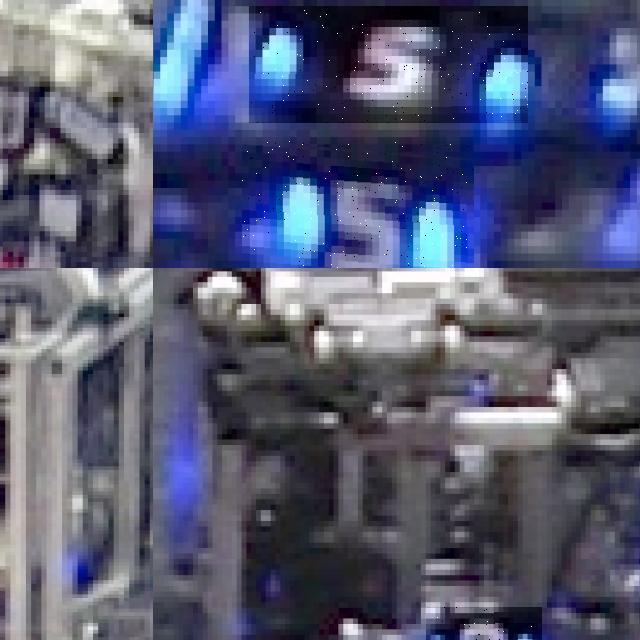B2: (425, 607, 542, 640)
B5: (249, 6, 528, 123), (242, 141, 473, 268)
